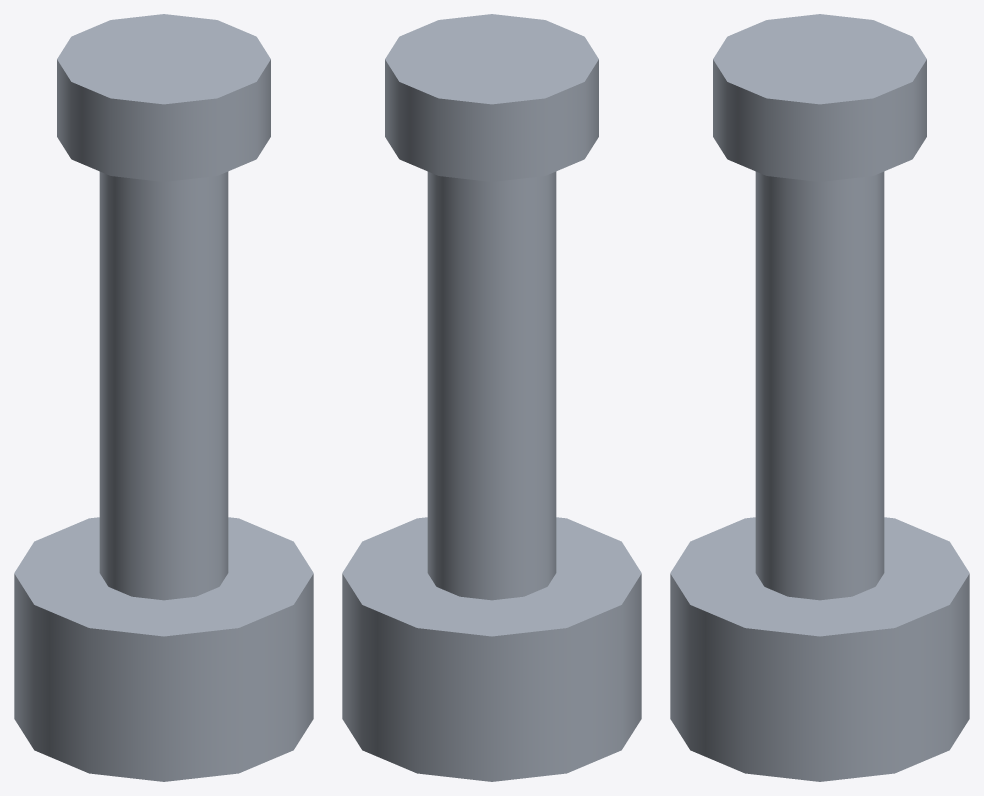
Rendered from sensor.glb.
3 views of the same model, side by side, from view 1: azimuth 30°, elevation 25°; view 2: azimuth 150°, elevation 25°; view 3: azimuth 270°, elevation 25° (orthographic).
Bounding box in the file's own units: 0.4118 × 1 × 0.4118.
